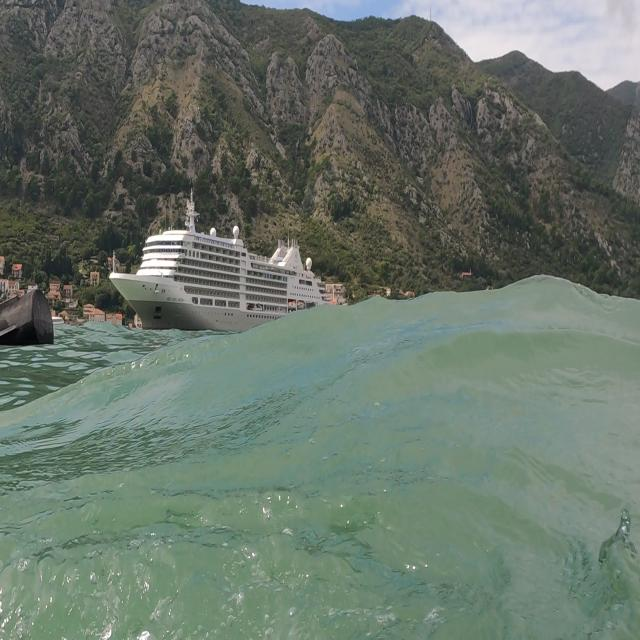boat: (107, 184, 329, 335)
buoy: (0, 277, 61, 360)
